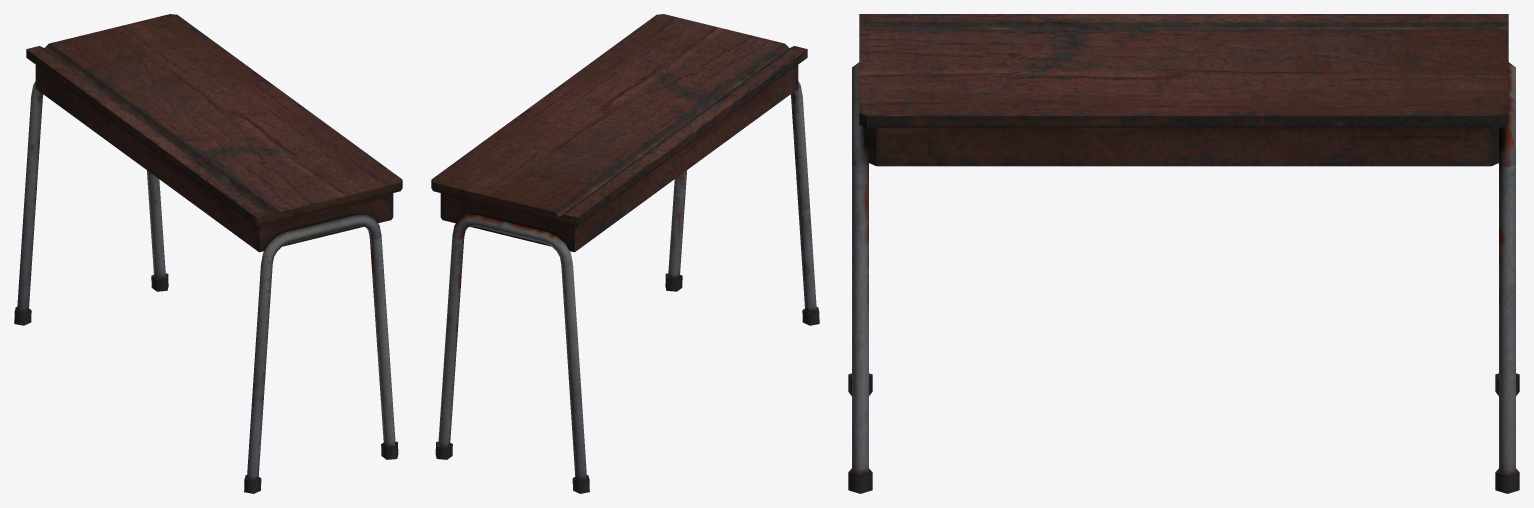
The model's file is L_Desk.FBX.
3 renders of one model, left to right at view 1: azimuth 30°, elevation 25°; view 2: azimuth 150°, elevation 25°; view 3: azimuth 270°, elevation 25°, orthographic. The views are drawn at different scales.
Parts seen in each view (by area): view 1: L_Desk; view 2: L_Desk; view 3: L_Desk.
Boxes of the visible parts, left/top/right/bottom form: L_Desk: left=14, top=14, right=402, bottom=493; L_Desk: left=431, top=14, right=819, bottom=493; L_Desk: left=848, top=14, right=1519, bottom=493.
Size of the model in its own units: 55.94 by 90.27 by 144.
Materials: 1 (1 with a texture image).
